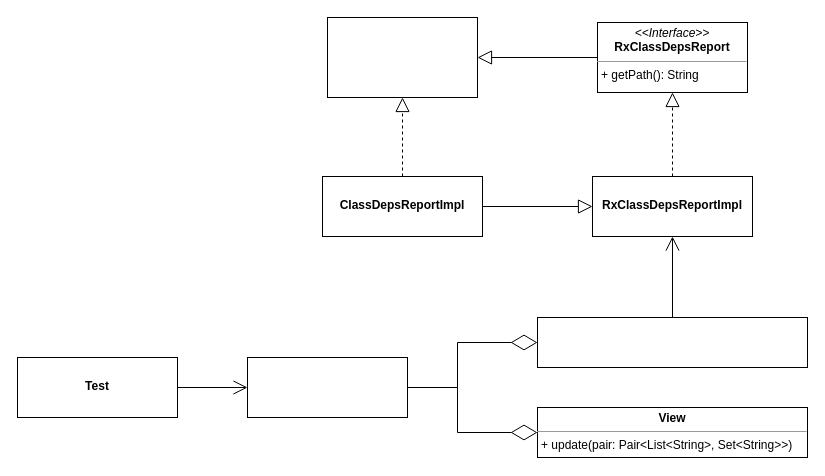
The diagram is 825 pixels wide and 476 high, and some of its shapes have lost their labels. The shapes that lost their labels are listed below. From the top down, each one's box as (x1, y1, x2, y2) in pixels, then its label:
(326, 16, 478, 98): <<Interface>> ClassDepsReport + addType(type: String) + getReport(): Set<String>
(536, 316, 808, 368): DependencyAnalyser + getSource(): Observable<RxClassDepsReport>
(246, 356, 408, 418): Controller
